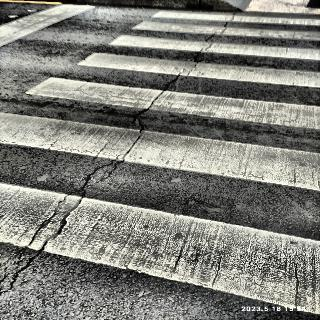crack: (3, 8, 264, 294)
